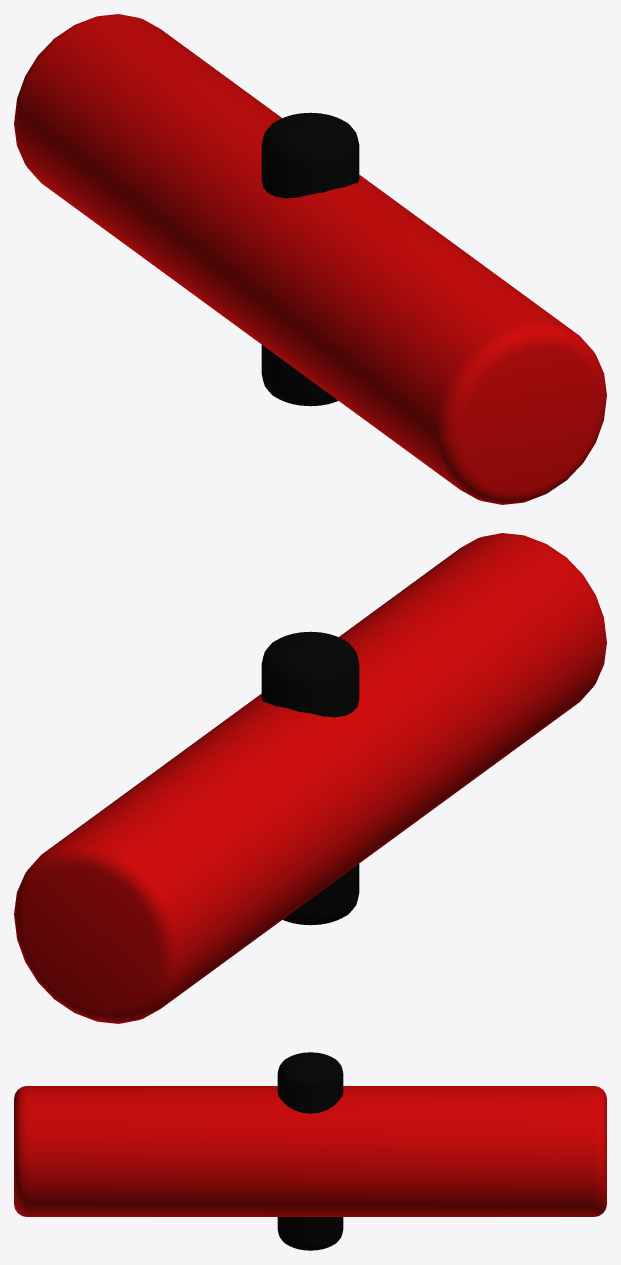
Rendered from ob_tru_xoay.fbx.
3 renders of one model, top to bottom at view 1: azimuth 30°, elevation 25°; view 2: azimuth 150°, elevation 25°; view 3: azimuth 270°, elevation 25°, orthographic. The views are drawn at different scales.
Parts seen in each view (by area): view 1: xoay, tru; view 2: xoay, tru; view 3: xoay, tru.
Part boxes in pixels (<box>): xoay: <box>14,14,606,504</box>; tru: <box>261,112,359,406</box>; xoay: <box>14,533,606,1023</box>; tru: <box>261,631,359,925</box>; xoay: <box>14,1086,606,1216</box>; tru: <box>277,1052,343,1250</box>.
Bounding box in the file's own units: 40 × 60 × 180.
